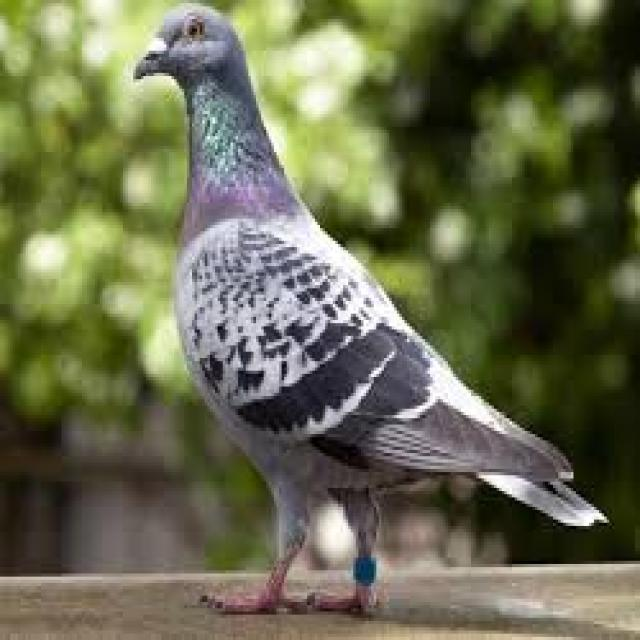bird: (131, 1, 607, 626)
